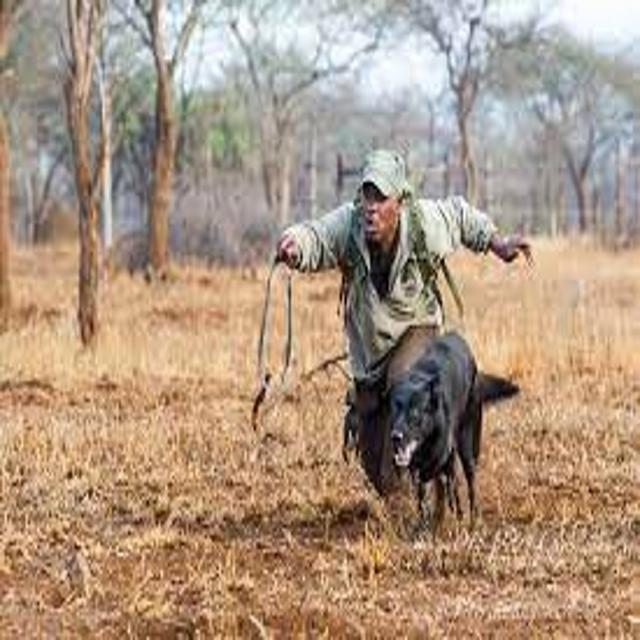dog: (314, 298, 557, 565)
poacher: (224, 119, 569, 565)
